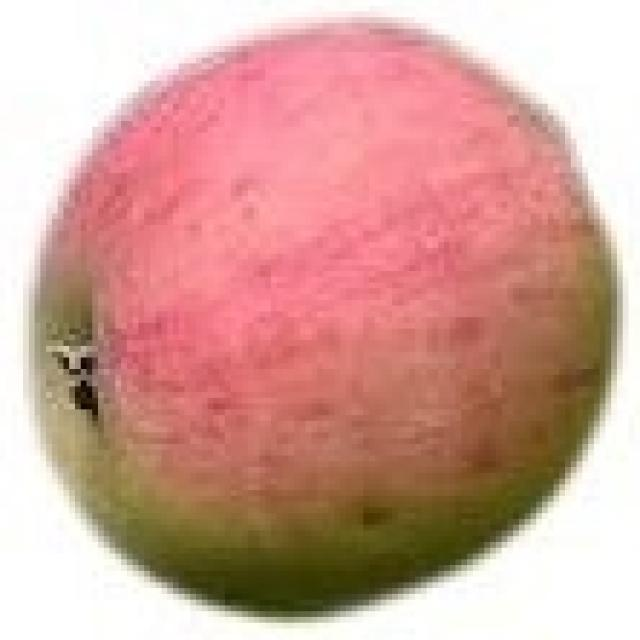apple: (39, 23, 614, 610)
